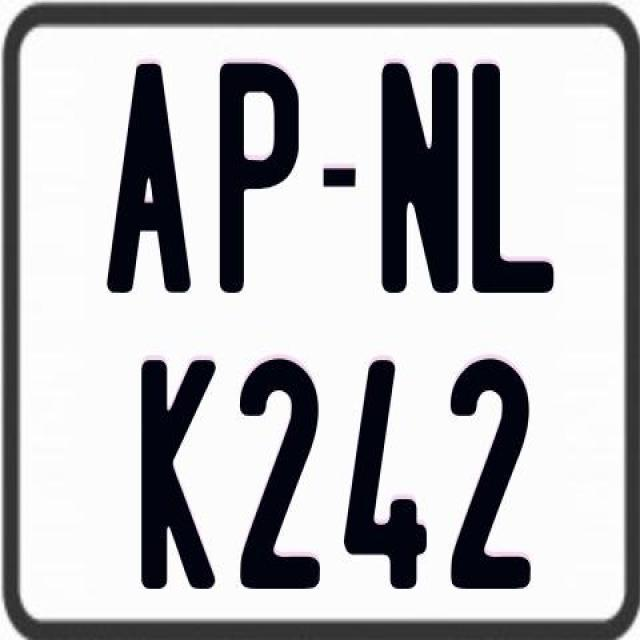2: (446, 357, 534, 590), (236, 353, 321, 592)
4: (343, 360, 428, 598)
A: (102, 62, 194, 298)
K: (141, 356, 216, 588)
L: (469, 59, 551, 298)
N: (380, 61, 466, 294)
P: (218, 59, 304, 293)
